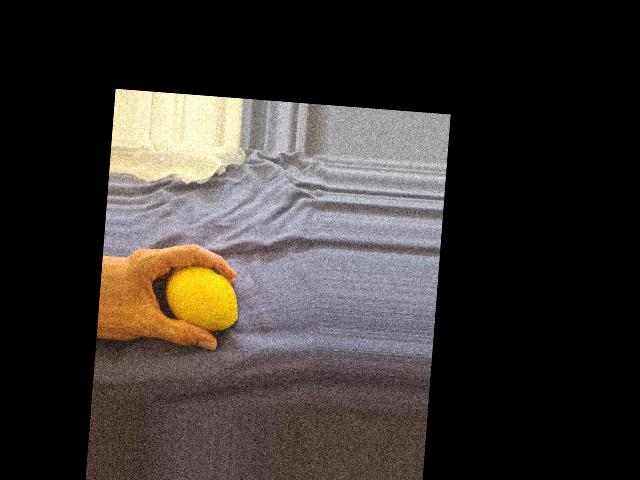lemon: (163, 258, 242, 331)
